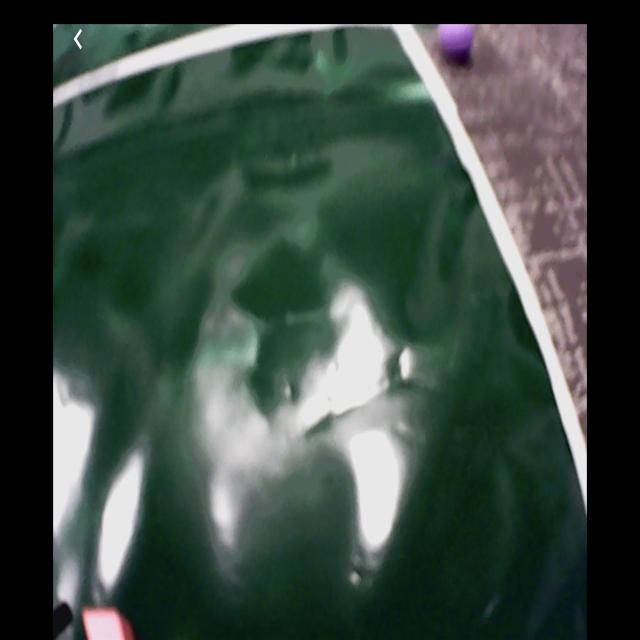ball: (435, 27, 476, 63)
